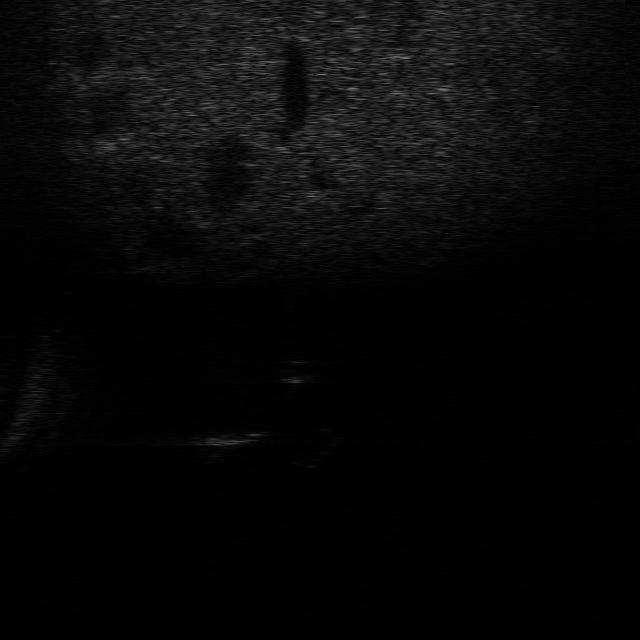ball: (262, 352, 322, 388)
square cage: (186, 424, 268, 464)
tyre: (291, 428, 349, 469)
